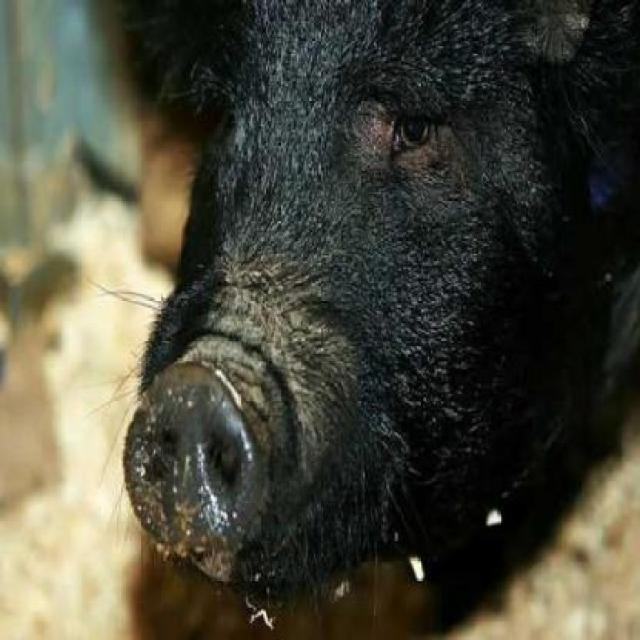pig: (119, 0, 638, 618)
